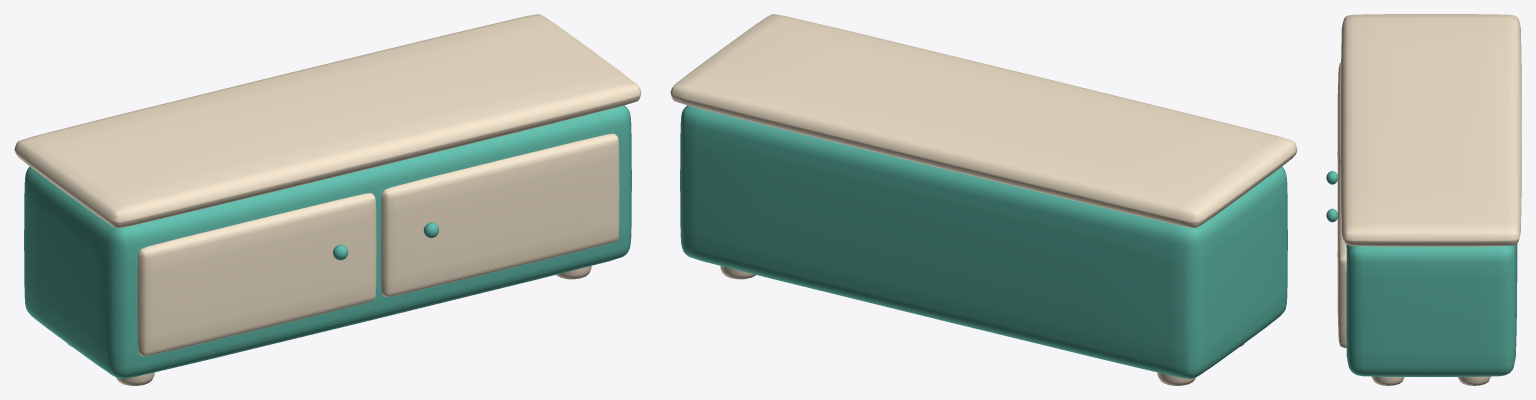
File: tv_stand_a.glb
The picture shows the model from 3 angles, left to right: view 1: azimuth 30°, elevation 25°; view 2: azimuth 150°, elevation 25°; view 3: azimuth 270°, elevation 25°; orthographic projection. The views are drawn at different scales.
Visible parts, largest first — view 1: body; view 2: body; view 3: body.
Boxes of the visible parts, <box> form: body: <box>14,14,641,385</box>; body: <box>670,14,1297,385</box>; body: <box>1326,14,1521,385</box>.
Bounding box in the file's own units: 1.22 × 0.44 × 0.454.
